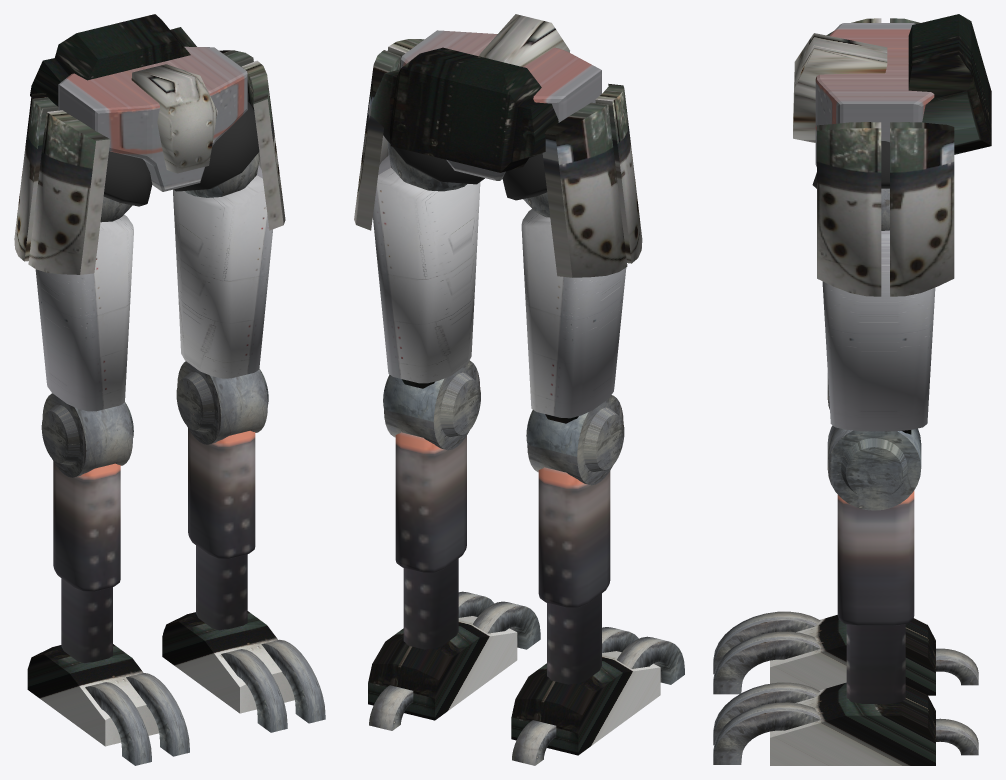
File: Robot 5 legs.fbx
3 renders of one model, left to right at view 1: azimuth 30°, elevation 25°; view 2: azimuth 150°, elevation 25°; view 3: azimuth 270°, elevation 25°, orthographic. The views are drawn at different scales.
Visible parts, largest first — view 1: Icosphere, Icosphere.001, Cylinder.003, Cylinder.004, Cube.013, Cube.015, Cube.020, Cube.029, Cube.027, Icosphere.002, Icosphere.008; view 2: Icosphere, Icosphere.001, Cylinder.003, Cylinder.004, Cube.029, Cube.015, Cube.013, Cube.020, Cube.027, Icosphere.008, Icosphere.002; view 3: Icosphere.001, Cylinder.004, Cube.013, Cube.015, Cube.029, Cube.020, Cube.027.
Part boxes in pixels (x1,y1,x2,y2): Icosphere: (14, 93, 133, 411); Icosphere.001: (173, 50, 285, 378); Cylinder.003: (41, 393, 133, 662); Cylinder.004: (176, 361, 268, 630); Cube.013: (162, 611, 325, 732); Cube.015: (27, 644, 189, 765); Cube.020: (58, 46, 247, 191); Cube.029: (30, 14, 196, 106); Cube.027: (131, 64, 217, 173); Icosphere.002: (173, 102, 259, 191); Icosphere.008: (103, 151, 152, 206); Icosphere: (521, 83, 642, 423); Icosphere.001: (354, 39, 480, 388); Cylinder.003: (526, 395, 624, 684); Cylinder.004: (383, 360, 480, 649); Cube.029: (370, 47, 558, 172); Cube.015: (511, 627, 684, 765); Cube.013: (368, 591, 540, 730); Cube.020: (401, 30, 601, 180); Cube.027: (479, 14, 569, 66); Icosphere.008: (502, 153, 547, 200); Icosphere.002: (383, 128, 484, 184); Icosphere.001: (817, 122, 954, 434); Cylinder.004: (827, 425, 921, 703); Cube.013: (713, 682, 978, 765); Cube.015: (713, 611, 978, 695); Cube.029: (908, 14, 991, 154); Cube.020: (815, 23, 934, 166); Cube.027: (793, 33, 887, 142).
Bounding box in the file's own units: 320 × 785 × 291.
